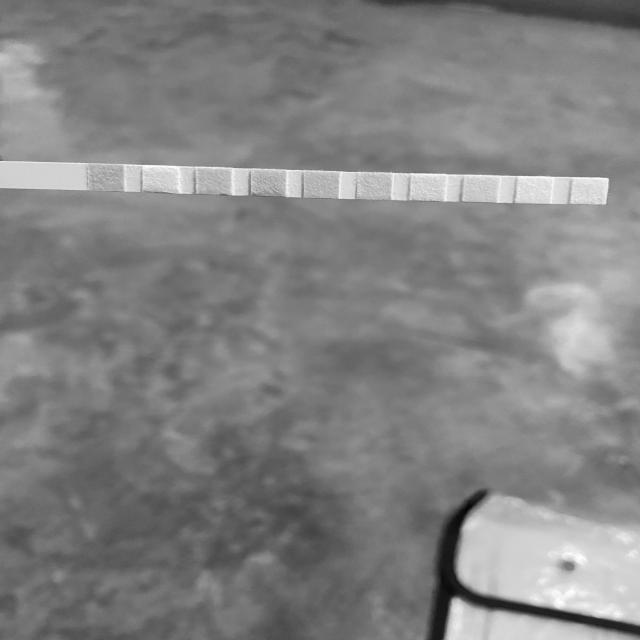Bilirubin: (143, 168, 177, 190)
Blood: (305, 172, 338, 197)
Glucose: (89, 165, 123, 190)
Ketone: (197, 169, 230, 193)
Leukocytes: (574, 180, 606, 203)
Nitrite: (519, 178, 550, 202)
Protein: (411, 175, 444, 200)
SpGravity: (252, 171, 286, 195)
Urobilinogen: (465, 177, 497, 201)
background: (0, 0, 640, 640)
pH: (359, 174, 390, 198)
strip: (0, 161, 611, 205)
